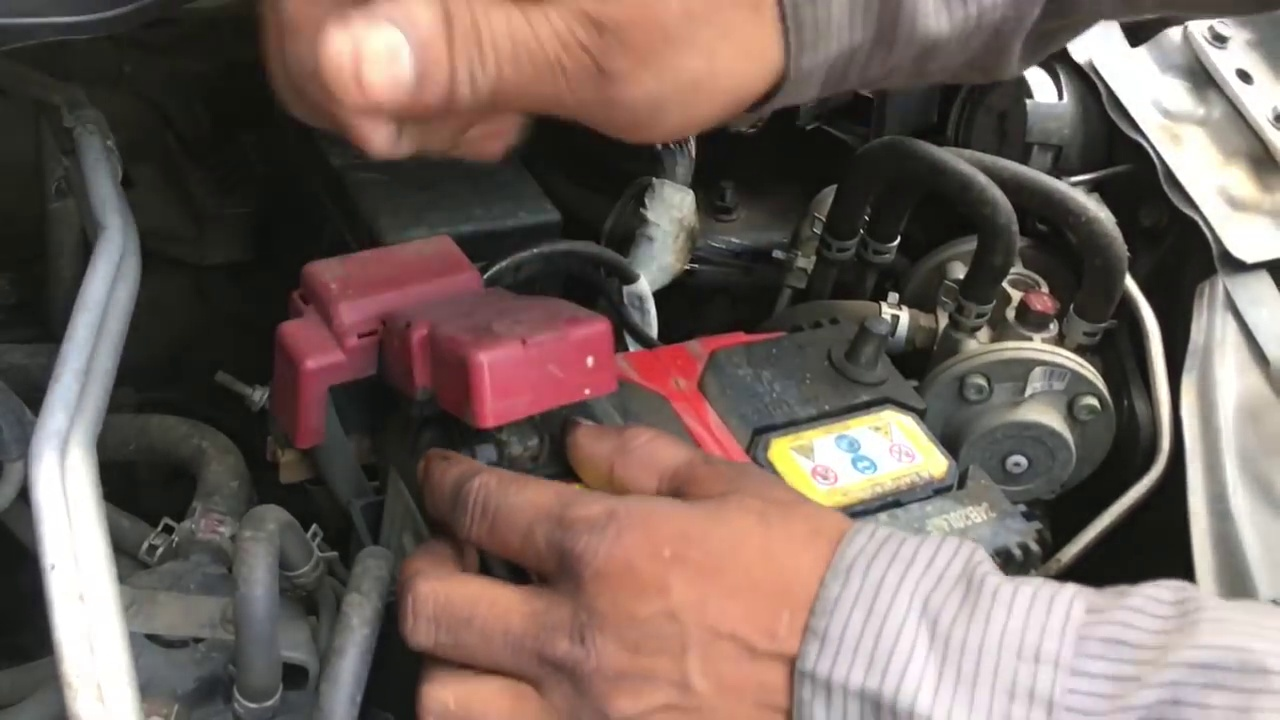battery: (392, 318, 1013, 602)
neg_disconnected: (810, 303, 912, 402)
pos_touched: (287, 235, 662, 579)
